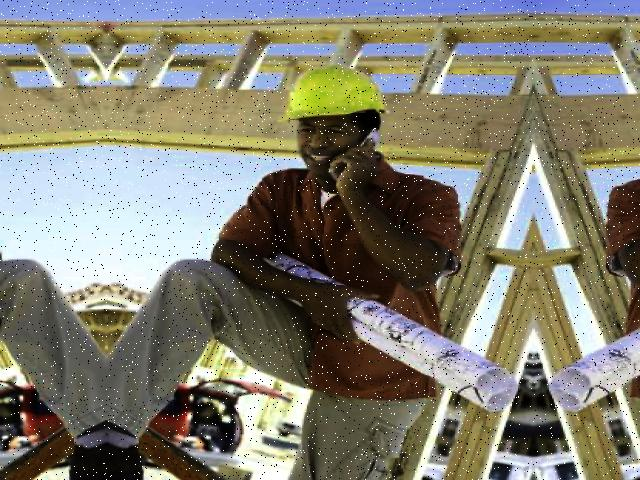Helmet: (275, 61, 393, 128)
